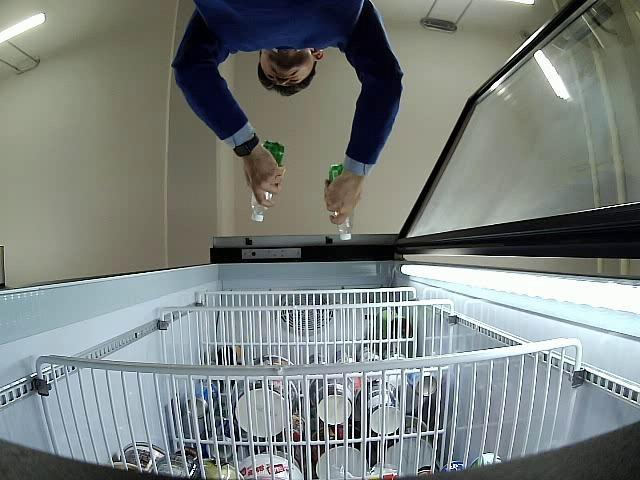18_trevi: (250, 140, 285, 222), (330, 164, 352, 240)
